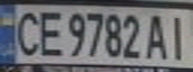2: (121, 10, 145, 60)
7: (81, 9, 106, 57)
8: (103, 9, 127, 58)
9: (63, 8, 87, 57)
A: (145, 10, 172, 61)
C: (9, 7, 45, 57)
E: (33, 7, 66, 58)
I: (163, 11, 193, 61)
